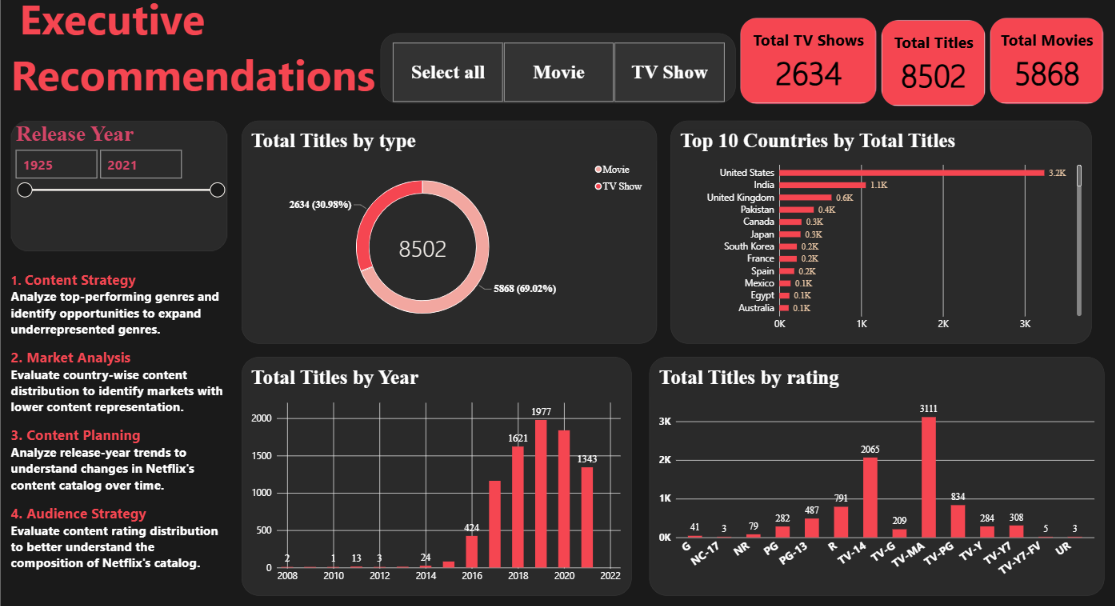

The page's visual inventory and layout, read from the dashboard file:
{"tool":"powerbi","page":{"name":"Executive Recommendations ","canvas":[1920,1080],"ordinal":4},"visuals":[{"type":"cardVisual","fields":{"Data":["Dataset.Total Titles"]},"box":[1517.9,51.2,180.3,149.5],"z":0},{"type":"cardVisual","fields":{"Data":["Dataset.Total TV Shows"]},"box":[1274.2,49.2,235.6,149.5],"z":1000},{"type":"cardVisual","fields":{"Data":["Dataset.Total Movies"]},"box":[1704.3,49.2,196.7,149.5],"z":2000},{"type":"donutChart","fields":{"Category":["Dataset.type"],"Y":["Dataset.Total Titles"]},"box":[415,225.8,716,384.1],"z":3000},{"type":"barChart","title":"Top 10 Countries by Total Titles","fields":{"Category":["Country1.Country"],"Y":["Dataset.Total Titles"]},"box":[1154.2,225.8,725.7,384.1],"z":4000},{"type":"clusteredColumnChart","fields":{"Category":["Dataset.date_added.Variation.Date Hierarchy.Year","Dataset.date_added.Variation.Date Hierarchy.Month"],"Y":["Dataset.Total Titles"]},"box":[415.4,633.7,671.8,411.2],"z":5000},{"type":"clusteredColumnChart","fields":{"Category":["Dataset.rating","Dataset.type"],"Y":["Dataset.Total Titles"]},"box":[1116.9,633.7,784.2,411.2],"z":6000},{"type":"textbox","box":[17,0,716.4,197.1],"z":7000},{"type":"slicer","fields":{"Values":["Dataset.type"]},"box":[653.5,75.8,612.5,120.9],"z":8000},{"type":"slicer","fields":{"Values":["Dataset.release_year"]},"box":[17,226.8,373,224.7],"z":9000},{"type":"textbox","box":[17.4,482.5,372.5,561.6],"z":10000}]}

Visuals, with their boxes on the page's 1920x1080 design canvas (x1, y1, x2, y2). These are canvas units, not pixel positions in the 1115x606 screenshot, which may show the page scaled, cropped or inside an application window:
cardVisual - Dataset.Total Titles: bbox=(1518, 51, 1698, 201)
cardVisual - Dataset.Total TV Shows: bbox=(1274, 49, 1510, 199)
cardVisual - Dataset.Total Movies: bbox=(1704, 49, 1901, 199)
donutChart - Dataset.type x Dataset.Total Titles: bbox=(415, 226, 1131, 610)
"Top 10 Countries by Total Titles" barChart: bbox=(1154, 226, 1880, 610)
clusteredColumnChart - Dataset.date_added.Variation.Date Hierarchy.Year x Dataset.date_added.Variation.Date Hierarchy.Month: bbox=(415, 634, 1087, 1045)
clusteredColumnChart - Dataset.rating x Dataset.type: bbox=(1117, 634, 1901, 1045)
textbox: bbox=(17, 0, 733, 197)
slicer - Dataset.type: bbox=(654, 76, 1266, 197)
slicer - Dataset.release_year: bbox=(17, 227, 390, 452)
textbox: bbox=(17, 482, 390, 1044)
